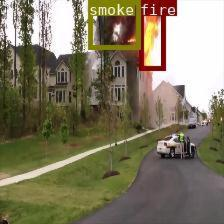fire: (138, 0, 165, 70)
smoke: (88, 0, 140, 49)
